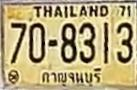0: (29, 22, 44, 62)
1: (103, 22, 108, 63)
3: (78, 22, 95, 62), (116, 21, 132, 62)
7: (10, 22, 26, 63)
8: (60, 22, 76, 62)
KRI: (37, 65, 105, 88)
